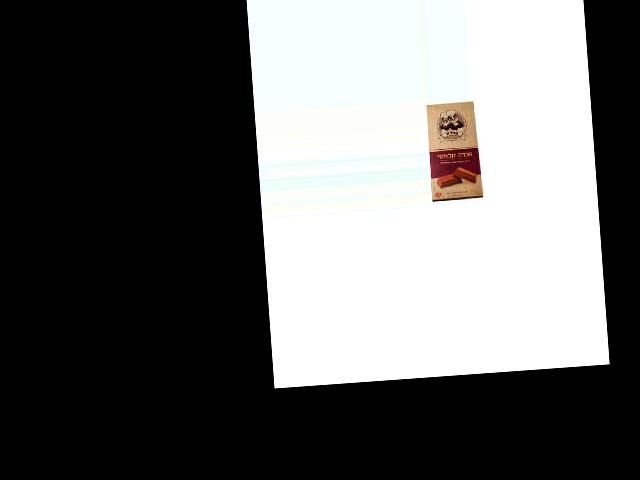chocolate: (427, 100, 484, 201)
